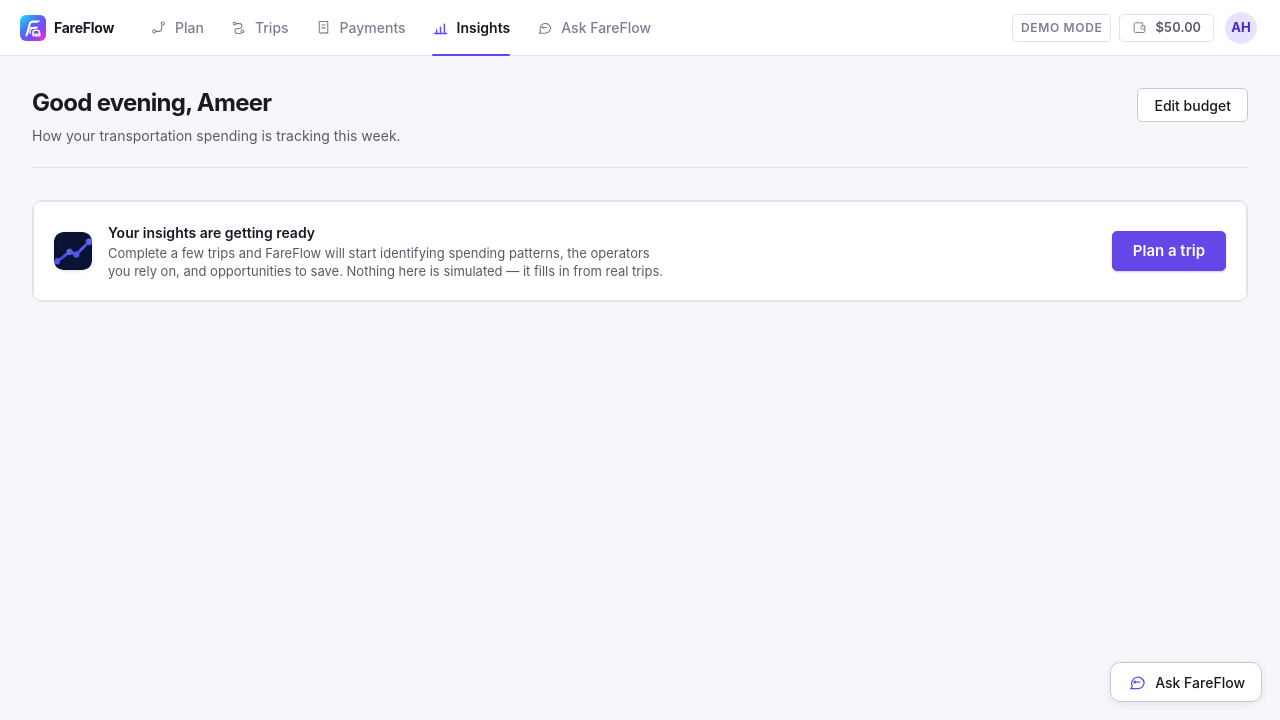
Test case: demo mode › offers no sign-out, because there is no session to end
Expected: the text "Demo mode" is shown, [1012,14,1111,42]
Click the button with aria-label "account:" at coordinates (1241, 28), box [1222,8,1260,46]
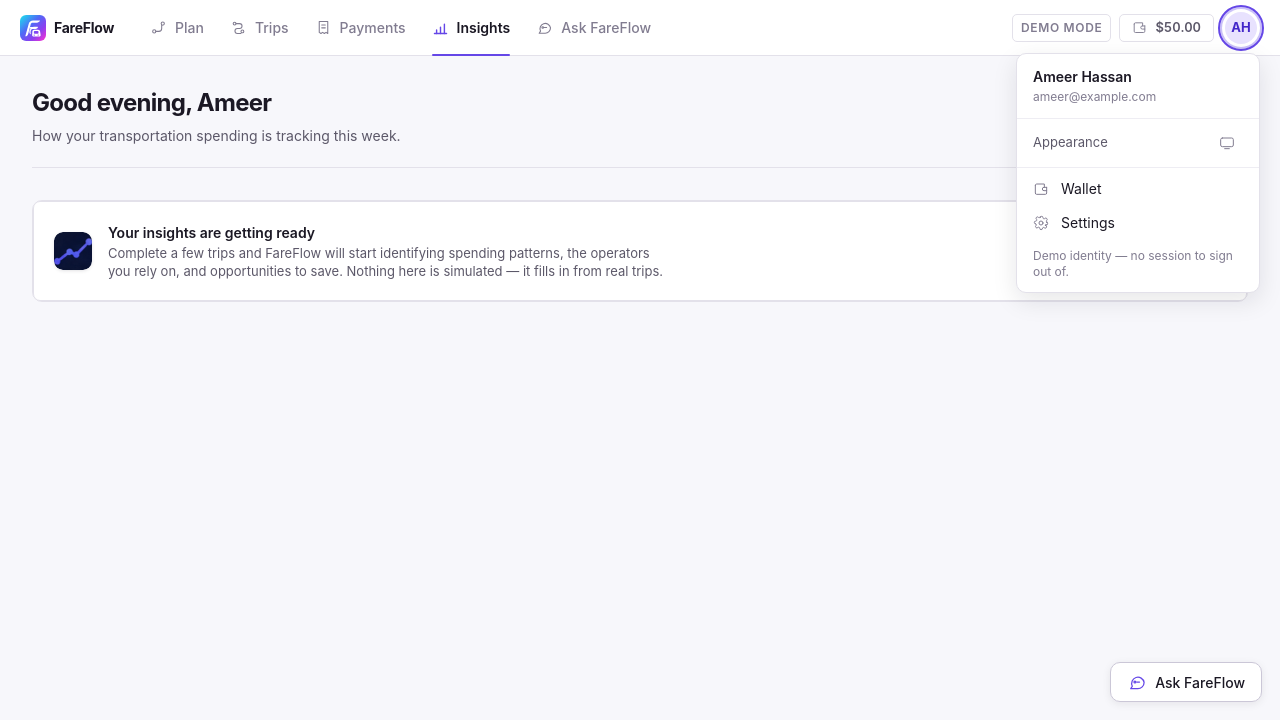
Now the text "Demo identity — no session to sign out of." is shown, box [1021,240,1255,288]
